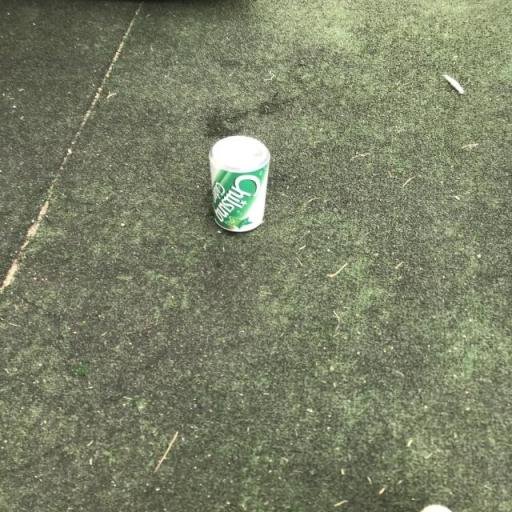metal: (190, 122, 292, 248)
